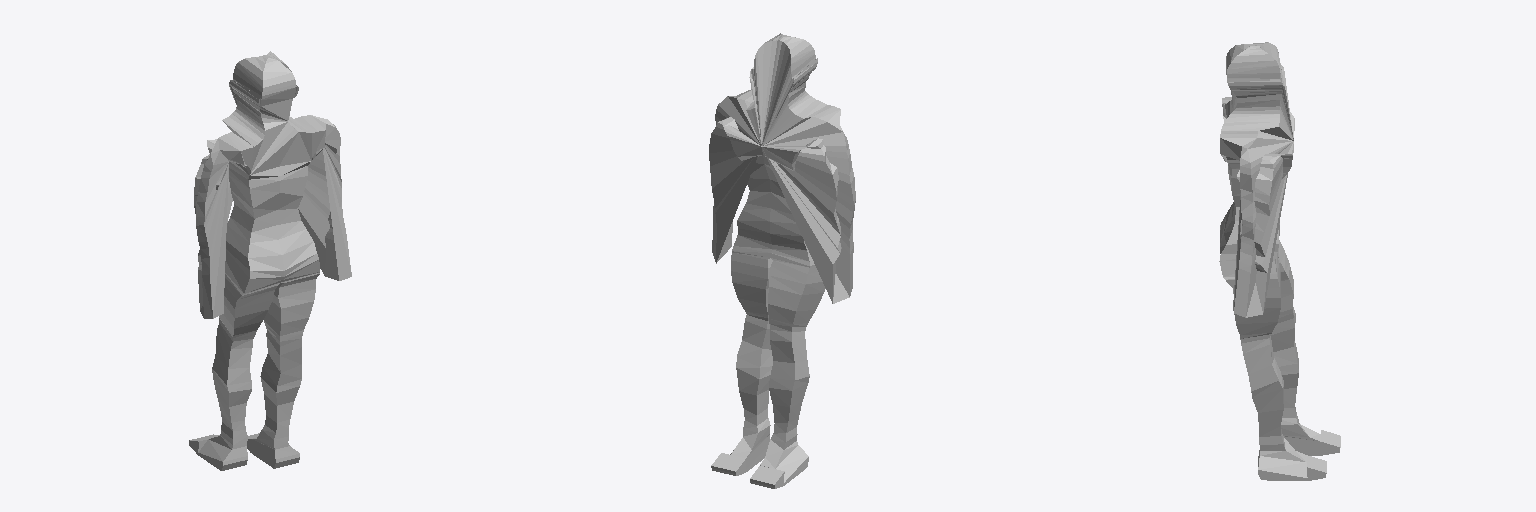
The model's file is woman_000040.obj.
The picture shows the model from 3 angles: view 1: azimuth 30°, elevation 25°; view 2: azimuth 150°, elevation 25°; view 3: azimuth 270°, elevation 25°; orthographic projection.
Parts seen in each view (by area): view 1: Cube_Cube.001; view 2: Cube_Cube.001; view 3: Cube_Cube.001.
Part boxes in pixels (bbox=[...]): Cube_Cube.001: bbox=[189, 51, 351, 470]; Cube_Cube.001: bbox=[709, 33, 855, 488]; Cube_Cube.001: bbox=[1219, 42, 1340, 480].
Bounding box in the file's own units: 3.62 × 9.92 × 2.61.